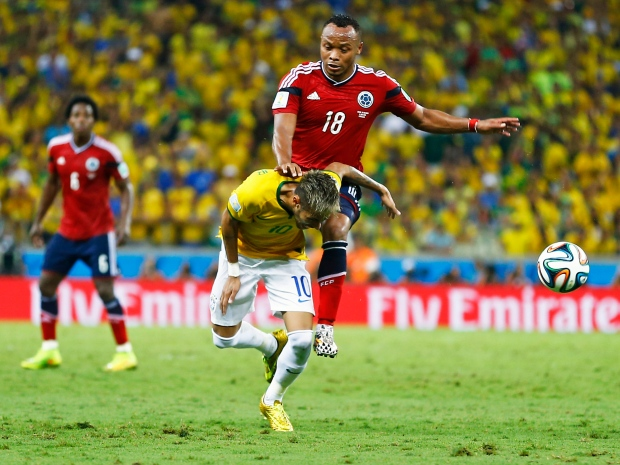football: (535, 241, 592, 294)
